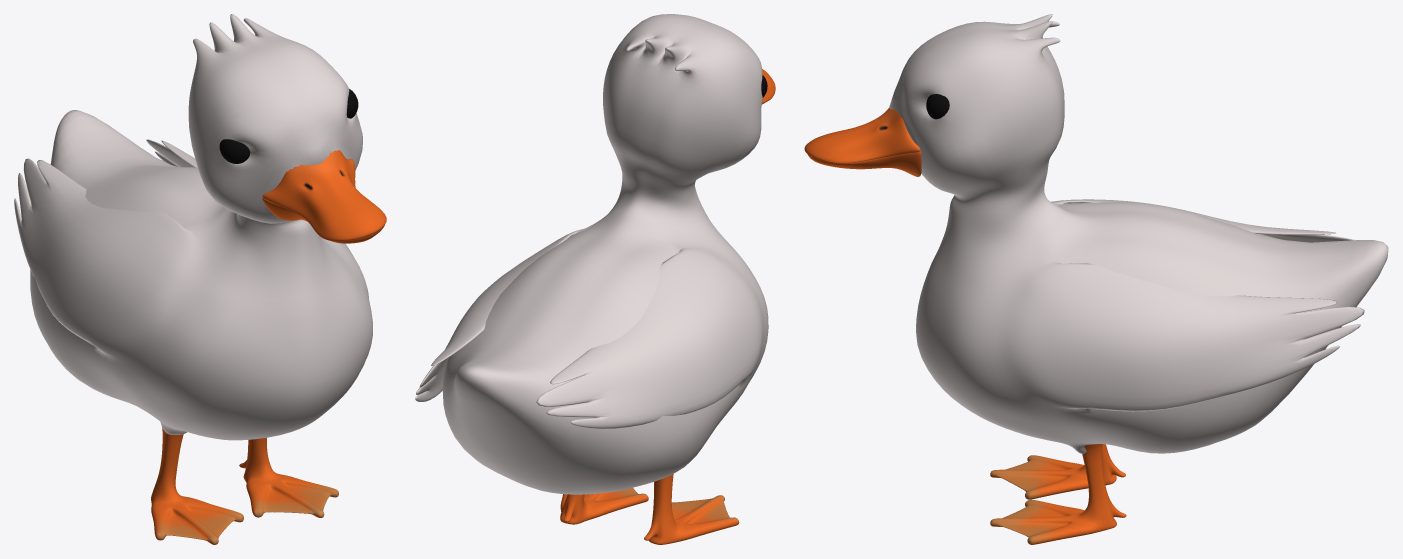
3 views of the same model, side by side, from view 1: azimuth 30°, elevation 25°; view 2: azimuth 150°, elevation 25°; view 3: azimuth 270°, elevation 25° (orthographic). The views are drawn at different scales.
Visible parts, largest first — view 1: Duck_v2_0; view 2: Duck_v2_0; view 3: Duck_v2_0.
Part boxes in pixels (box(x1,y1,x2,y2)): Duck_v2_0: box(14, 14, 386, 544); Duck_v2_0: box(415, 14, 775, 544); Duck_v2_0: box(804, 14, 1388, 544).
Bounding box in the file's own units: 0.2343 × 0.4235 × 0.4658.
